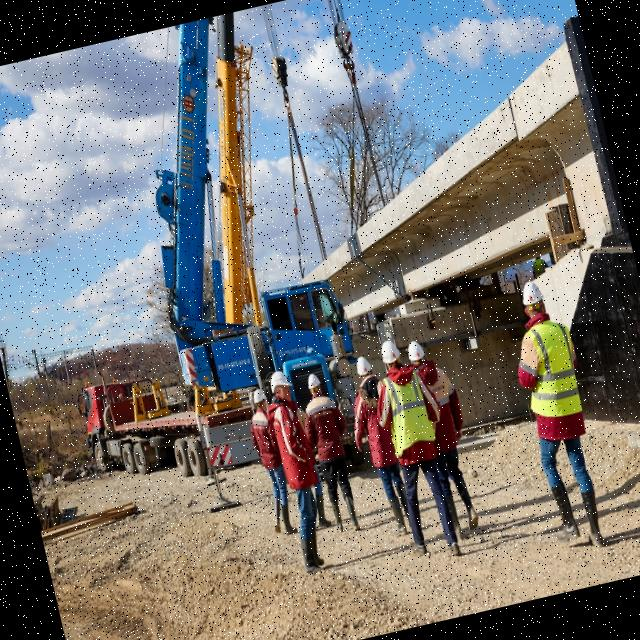Helmet: (377, 338, 405, 370), (520, 279, 546, 311), (268, 369, 296, 398), (405, 339, 428, 368), (355, 357, 375, 383), (252, 388, 271, 410), (305, 372, 324, 393)
Jacket: (520, 312, 588, 443), (381, 363, 436, 460)
NoJacket: (270, 398, 315, 491), (354, 380, 399, 468), (419, 366, 460, 451), (307, 394, 346, 463), (251, 413, 276, 465)
